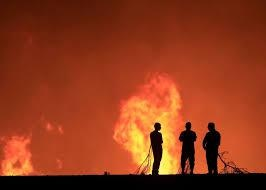fire: (114, 74, 186, 174)
